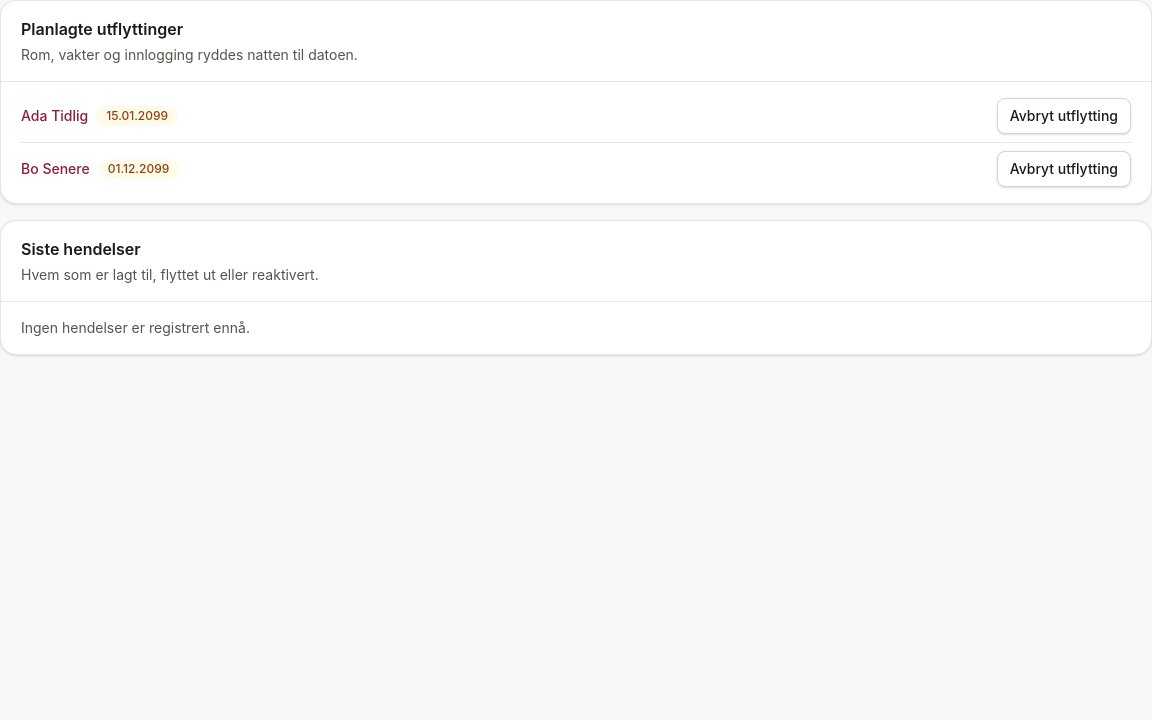
Test: MoveOutsTab › cancels a planned move-out after confirming, and reloads both lists
What coordinates should you click on to do the following:
click the button "Avbryt utflytting" in the row of "Ada Tidlig"
I would click on:
 (1064, 116)
Its box is [997,98,1131,134].
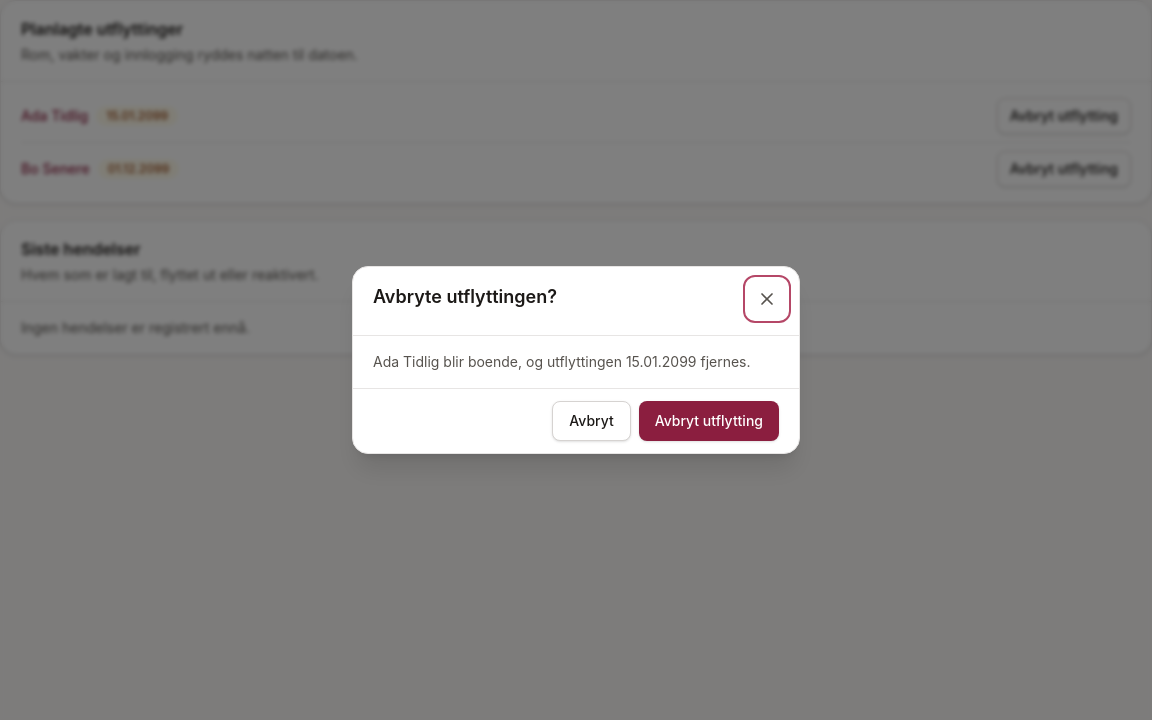
Result: the dialog "Avbryte utflyttingen?" shows "Ada Tidlig blir boende" at [373,353,750,370]
What coordinates should you click on to do the following:
click the button "Avbryt utflytting"
I would click on:
 (709, 421)
Its box is [639,401,779,441].
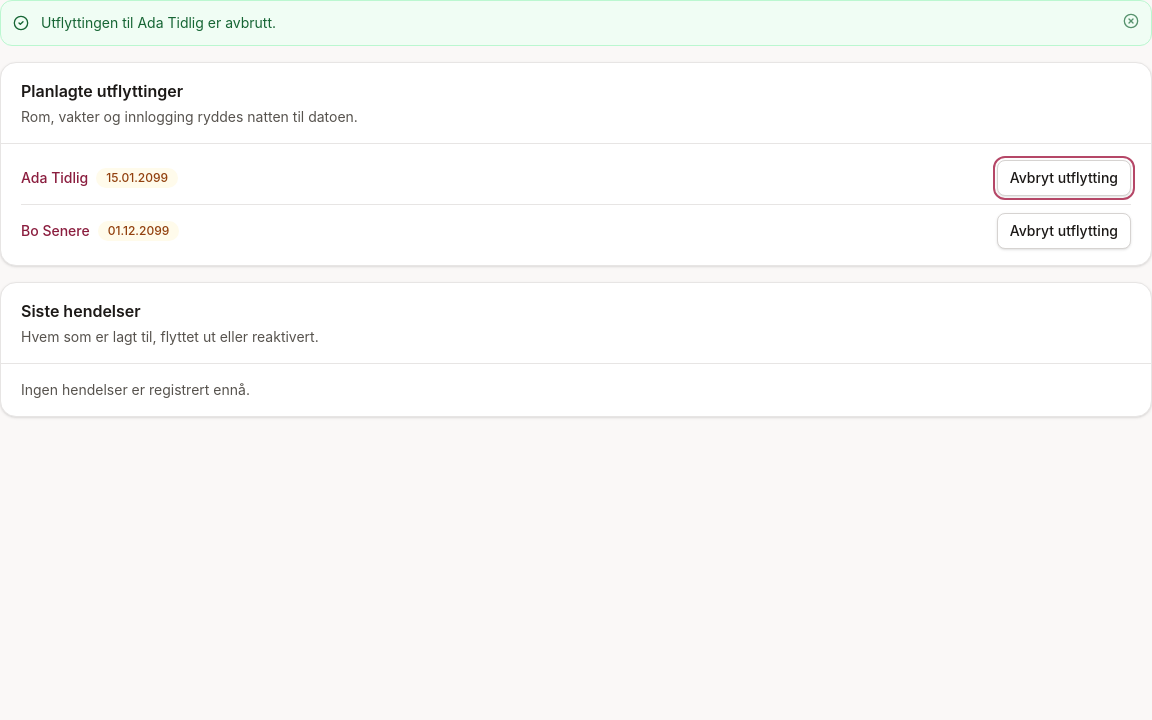
Result: the text "Utflyttingen til Ada Tidlig er avbrutt." is shown at [41,14,276,31]
